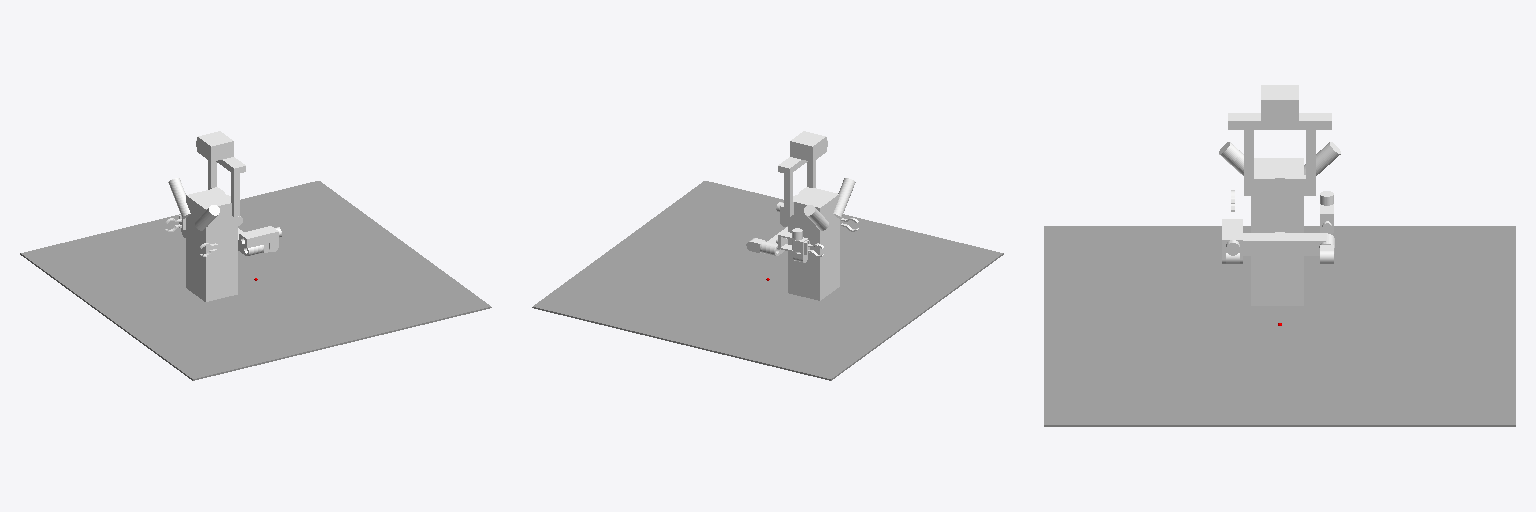
The robot description file, URDF, robot "gantry_engineer":
<?xml version="1.0"?>
<robot name="gantry_engineer">
  <link name="world" />
  <link name="eef_right_center" />
  <link name="eef_left_center" />
  <link name="floor">
    <visual>
      <origin xyz="0 0 0" rpy="0 0 0" />
      <geometry>
        <box size="2 2 0.01" />
      </geometry>
      <material name="grey">
        <color rgba="0.7 0.7 0.7 1.0" />
      </material>
    </visual>

    <collision>
      <origin xyz="0 0 0" rpy="0 0 0" />
      <geometry>
        <box size="2 2 0.01" />
      </geometry>
    </collision>
  </link>

  <joint name="world_to_floor" type="fixed">
    <parent link="world" />
    <child link="floor" />
    <origin xyz="0 0 -0.006" rpy="0 0 0" />
  </joint>

  <!-- IPM (Imaginary Point Marker) - 参考点 -->
  <link name="ipm">
    <visual>
      <origin xyz="0 0 0" rpy="0 0 0" />
      <geometry>
        <sphere radius="0.01" />
      </geometry>
      <material name="marker-material">
        <color rgba="1 0 0 1" />
      </material>
    </visual>
    <inertial>
      <origin xyz="0 0 0" rpy="0 0 0" />
      <mass value="0.01" />
      <inertia ixx="0.0001" ixy="0" ixz="0" iyy="0.0001" iyz="0" izz="0.0001" />
    </inertial>
  </link>

  <joint name="world_to_ipm" type="fixed">
    <parent link="world" />
    <child link="ipm" />
    <origin xyz="0.0 0.0 0.0" rpy="0 0 3.141593" />
  </joint>

  <link name="x_rail">
    <inertial>
      <mass value="5.0"/>
      <inertia ixx="0.1" ixy="0.0" ixz="0.0" iyy="0.1" iyz="0.0" izz="0.1"/>
    </inertial>
  </link>

  <joint name="x_rail_joint" type="prismatic">
    <parent link="world"/>
    <child link="x_rail"/>
    <origin xyz="-0.20000 0.000000 0.000000" rpy="0.000000 0.000000 3.141593"/>
    <axis xyz="1.000000 0.000000 0.000000"/>
    <limit lower="-0.400000" upper="0.200000" effort="1000.000000" velocity="0.500000"/>
  </joint>

  <joint name="x_rail_to_link1" type="fixed">
    <parent link="x_rail"/>
    <child link="link1"/>
    <origin xyz="0.100000 0.000000 0.0000000" rpy="0.000000 0.000000 0.000000"/>
  </joint>
  
  <link name="link1">
    <visual>
      <origin xyz="0.000000 0.000000 0.000000" rpy="0.000000 0.000000 0.000000"/>
      <geometry>
        <mesh filename="package://model/meshes/link1.STL"/>
      </geometry>
      <material name="link1_mat">
        <color rgba="1.000 1.000 1.000 1.000"/>
      </material>
    </visual>
    <collision>
      <origin xyz="0.000000 0.000000 0.000000" rpy="0.000000 0.000000 0.000000"/>
      <geometry>
        <mesh filename="package://model/meshes/link1.STL"/>
      </geometry>
    </collision>
  </link>

  <joint name="joint_link1_link2" type="prismatic">
    <parent link="link1"/>
    <child link="link2"/>
    <origin xyz="-0.107000 0.000000 0.310000" rpy="0.000000 -0.000000 0.000000"/>
    <axis xyz="0.000000 0.000000 1.000000"/>
    <limit lower="0.0" upper="0.410" effort="0.000000" velocity="0.000000"/>
  </joint>

  <link name="link2">
    <visual>
      <origin xyz="0.000000 0.000000 0.000000" rpy="0.000000 0.000000 0.000000"/>
      <geometry>
        <mesh filename="package://model/meshes/link2.STL"/>
      </geometry>
      <material name="link2_mat">
        <color rgba="1.000 1.000 1.000 1.000"/>
      </material>
    </visual>
    <collision>
      <origin xyz="0.000000 0.000000 0.000000" rpy="0.000000 0.000000 0.000000"/>
      <geometry>
        <mesh filename="package://model/meshes/link2.STL"/>
      </geometry>
    </collision>
  </link>

  <joint name="joint_link2_link3_1" type="revolute">
    <parent link="link2"/>
    <child link="link3_1"/>
    <origin xyz="-0.053000 0.200000 0.000000" rpy="0.000000 -0.000000 0.000000"/>
    <axis xyz="1.000000 0.000000 0.000000"/>
    <limit lower="-3.141593" upper="3.141593" effort="0.000000" velocity="0.000000"/>
  </joint>
  <link name="link3_1">
    <visual>
      <origin xyz="0.000000 0.000000 0.000000" rpy="0.000000 0.000000 0.000000"/>
      <geometry>
        <mesh filename="package://model/meshes/link3_1.STL"/>
      </geometry>
      <material name="link3_1_mat">
        <color rgba="1.000 1.000 1.000 1.000"/>
      </material>
    </visual>
    <collision>
      <origin xyz="0.000000 0.000000 0.000000" rpy="0.000000 0.000000 0.000000"/>
      <geometry>
        <mesh filename="package://model/meshes/link3_1.STL"/>
      </geometry>
    </collision>
  </link>

  <joint name="joint_link3_1_link4_1" type="revolute">
    <parent link="link3_1"/>
    <child link="link4_1"/>
    <origin xyz="-0.122000 0.000000 0.003000" rpy="0.000000 -0.000000 0.000000"/>
    <axis xyz="0.000000 1.000000 0.000000"/>
    <limit lower="-3.141593" upper="3.141593" effort="0.000000" velocity="0.000000"/>
  </joint>
  <link name="link4_1">
    <visual>
      <origin xyz="0.000000 0.000000 0.000000" rpy="0.000000 0.000000 0.000000"/>
      <geometry>
        <mesh filename="package://model/meshes/link4_1.STL"/>
      </geometry>
      <material name="link4_1_mat">
        <color rgba="1.000 1.000 1.000 1.000"/>
      </material>
    </visual>
    <collision>
      <origin xyz="0.000000 0.000000 0.000000" rpy="0.000000 0.000000 0.000000"/>
      <geometry>
        <mesh filename="package://model/meshes/link4_1.STL"/>
      </geometry>
    </collision>
  </link>

  <joint name="joint_link4_1_link5_1" type="revolute">
    <parent link="link4_1"/>
    <child link="link5_1"/>
    <origin xyz="0.164000 0.000000 0.063000" rpy="-3.141593 -1.570796 0.000000"/>
    <axis xyz="1.000000 0.000000 0.000000"/>
    <limit lower="-3.141593" upper="3.141593" effort="0.000000" velocity="0.000000"/>
  </joint>
  <link name="link5_1">
    <visual>
      <origin xyz="0.000000 0.000000 0.000000" rpy="0.000000 0.000000 0.000000"/>
      <geometry>
        <mesh filename="package://model/meshes/link5_1.STL"/>
      </geometry>
      <material name="link5_1_mat">
        <color rgba="1.000 1.000 1.000 1.000"/>
      </material>
    </visual>
    <collision>
      <origin xyz="0.000000 0.000000 0.000000" rpy="0.000000 0.000000 0.000000"/>
      <geometry>
        <mesh filename="package://model/meshes/link5_1.STL"/>
      </geometry>
    </collision>
  </link>

  <joint name="joint_link5_1_link6_1" type="revolute">
    <parent link="link5_1"/>
    <child link="link6_1"/>
    <origin xyz="0.010000 0.000000 0.130000" rpy="3.141593 0.000000 1.570796"/>
    <axis xyz="0.000000 1.000000 0.000000"/>
    <limit lower="-3.141593" upper="3.141593" effort="0.000000" velocity="0.000000"/>
  </joint>
  <link name="link6_1">
    <visual>
      <origin xyz="0.000000 0.000000 0.000000" rpy="0.000000 0.000000 0.000000"/>
      <geometry>
        <mesh filename="package://model/meshes/link6_1.STL"/>
      </geometry>
      <material name="link6_1_mat">
        <color rgba="1.000 1.000 1.000 1.000"/>
      </material>
    </visual>
    <collision>
      <origin xyz="0.000000 0.000000 0.000000" rpy="0.000000 0.000000 0.000000"/>
      <geometry>
        <mesh filename="package://model/meshes/link6_1.STL"/>
      </geometry>
    </collision>
  </link>

  <joint name="joint_link6_1_link7_1" type="revolute">
    <parent link="link6_1"/>
    <child link="link7_1"/>
    <origin xyz="0.000000 -0.009250 -0.035000" rpy="3.141593 0.000000 3.141593"/>
    <axis xyz="0.000000 0.000000 1.000000"/>
    <limit lower="-3.141593" upper="3.141593" effort="0.000000" velocity="0.000000"/>
  </joint>
  <link name="link7_1">
    <visual>
      <origin xyz="0.000000 0.000000 0.000000" rpy="0.000000 0.000000 0.000000"/>
      <geometry>
        <mesh filename="package://model/meshes/link7_1.STL"/>
      </geometry>
      <material name="link7_1_mat">
        <color rgba="1.000 1.000 1.000 1.000"/>
      </material>
    </visual>
    <collision>
      <origin xyz="0.000000 0.000000 0.000000" rpy="0.000000 0.000000 0.000000"/>
      <geometry>
        <mesh filename="package://model/meshes/link7_1.STL"/>
      </geometry>
    </collision>
  </link>

  <joint name="joint_link7_1_eef_right_center" type="fixed">
    <parent link="link7_1"/>
    <child link="eef_right_center"/>
    <origin xyz="0.000000 0.000000 0.105000" rpy="0.000000 -0.000000 3.141593"/>
  </joint>

  <joint name="joint_link7_1_link8_1_1" type="prismatic">
    <parent link="link7_1"/>
    <child link="link8_1_1"/>
    <origin xyz="0.000000 0.017000 0.030000" rpy="0.000000 -0.000000 3.141593"/>
    <axis xyz="0.000000 1.000000 0.000000"/>
    <limit lower="-0.020" upper="0.0" effort="0.000000" velocity="0.000000"/>
  </joint>
  <link name="link8_1_1">
    <visual>
      <origin xyz="0.000000 0.000000 0.000000" rpy="0.000000 0.000000 0.000000"/>
      <geometry>
        <mesh filename="package://model/meshes/link8_1_1.STL"/>
      </geometry>
      <material name="link8_1_1_mat">
        <color rgba="1.000 1.000 1.000 1.000"/>
      </material>
    </visual>
    <collision>
      <origin xyz="0.000000 0.000000 0.000000" rpy="0.000000 0.000000 0.000000"/>
      <geometry>
        <mesh filename="package://model/meshes/link8_1_1.STL"/>
      </geometry>
    </collision>
  </link>

  <joint name="joint_link7_1_link8_1_2" type="prismatic">
    <parent link="link7_1"/>
    <child link="link8_1_2"/>
    <origin xyz="0.000000 -0.017000 0.030000" rpy="0.000000 -0.000000 3.141593"/>
    <axis xyz="0.000000 1.000000 0.000000"/>
    <limit lower="0.0" upper="0.020" effort="0.000000" velocity="0.000000"/>
    <mimic joint="joint_link7_1_link8_1_1" multiplier="-1.0" offset="0.0"/>
  </joint>
  <link name="link8_1_2">
    <visual>
      <origin xyz="0.000000 0.000000 0.000000" rpy="0.000000 0.000000 0.000000"/>
      <geometry>
        <mesh filename="package://model/meshes/link8_1_2.STL"/>
      </geometry>
      <material name="link8_1_2_mat">
        <color rgba="1.000 1.000 1.000 1.000"/>
      </material>
    </visual>
    <collision>
      <origin xyz="0.000000 0.000000 0.000000" rpy="0.000000 0.000000 0.000000"/>
      <geometry>
        <mesh filename="package://model/meshes/link8_1_2.STL"/>
      </geometry>
    </collision>
  </link>

  <joint name="joint_link2_link3_2" type="revolute">
    <parent link="link2"/>
    <child link="link3_2"/>
    <origin xyz="-0.053000 -0.200000 0.000000" rpy="0.000000 -0.000000 0.000000"/>
    <axis xyz="1.000000 0.000000 0.000000"/>
    <limit lower="-3.141593" upper="3.141593" effort="0.000000" velocity="0.000000"/>
  </joint>
  <link name="link3_2">
    <visual>
      <origin xyz="0.000000 0.000000 0.000000" rpy="0.000000 0.000000 0.000000"/>
      <geometry>
        <mesh filename="package://model/meshes/link3_2.STL"/>
      </geometry>
      <material name="link3_2_mat">
        <color rgba="1.000 1.000 1.000 1.000"/>
      </material>
    </visual>
    <collision>
      <origin xyz="0.000000 0.000000 0.000000" rpy="0.000000 0.000000 0.000000"/>
      <geometry>
        <mesh filename="package://model/meshes/link3_2.STL"/>
      </geometry>
    </collision>
  </link>

  <joint name="joint_link3_2_link4_2" type="revolute">
    <parent link="link3_2"/>
    <child link="link4_2"/>
    <origin xyz="-0.122000 0.000000 0.003000" rpy="0.000000 -0.000000 0.000000"/>
    <axis xyz="0.000000 1.000000 0.000000"/>
    <limit lower="-3.141593" upper="3.141593" effort="0.000000" velocity="0.000000"/>
  </joint>
  <link name="link4_2">
    <visual>
      <origin xyz="0.000000 0.000000 0.000000" rpy="0.000000 0.000000 0.000000"/>
      <geometry>
        <mesh filename="package://model/meshes/link4_2.STL"/>
      </geometry>
      <material name="link4_2_mat">
        <color rgba="1.000 1.000 1.000 1.000"/>
      </material>
    </visual>
    <collision>
      <origin xyz="0.000000 0.000000 0.000000" rpy="0.000000 0.000000 0.000000"/>
      <geometry>
        <mesh filename="package://model/meshes/link4_2.STL"/>
      </geometry>
    </collision>
  </link>

  <joint name="joint_link4_2_link5_2" type="revolute">
    <parent link="link4_2"/>
    <child link="link5_2"/>
    <origin xyz="0.164000 0.000000 0.060000" rpy="-3.141593 -1.570796 0.000000"/>
    <axis xyz="1.000000 0.000000 0.000000"/>
    <limit lower="-3.141593" upper="3.141593" effort="0.000000" velocity="0.000000"/>
  </joint>
  <link name="link5_2">
    <visual>
      <origin xyz="0.000000 0.000000 0.000000" rpy="0.000000 0.000000 0.000000"/>
      <geometry>
        <mesh filename="package://model/meshes/link5_2.STL"/>
      </geometry>
      <material name="link5_2_mat">
        <color rgba="1.000 1.000 1.000 1.000"/>
      </material>
    </visual>
    <collision>
      <origin xyz="0.000000 0.000000 0.000000" rpy="0.000000 0.000000 0.000000"/>
      <geometry>
        <mesh filename="package://model/meshes/link5_2.STL"/>
      </geometry>
    </collision>
  </link>

  <joint name="joint_link5_2_link6_2" type="revolute">
    <parent link="link5_2"/>
    <child link="link6_2"/>
    <origin xyz="0.010000 0.000000 0.130000" rpy="3.141593 0.000000 1.570796"/>
    <axis xyz="0.000000 1.000000 0.000000"/>
    <limit lower="-3.141593" upper="3.141593" effort="0.000000" velocity="0.000000"/>
  </joint>
  <link name="link6_2">
    <visual>
      <origin xyz="0.000000 0.000000 0.000000" rpy="0.000000 0.000000 0.000000"/>
      <geometry>
        <mesh filename="package://model/meshes/link6_2.STL"/>
      </geometry>
      <material name="link6_2_mat">
        <color rgba="1.000 1.000 1.000 1.000"/>
      </material>
    </visual>
    <collision>
      <origin xyz="0.000000 0.000000 0.000000" rpy="0.000000 0.000000 0.000000"/>
      <geometry>
        <mesh filename="package://model/meshes/link6_2.STL"/>
      </geometry>
    </collision>
  </link>

  <joint name="joint_link6_2_link7_2" type="revolute">
    <parent link="link6_2"/>
    <child link="link7_2"/>
    <origin xyz="0.000000 -0.009250 -0.035000" rpy="3.141593 0.000000 3.141593"/>
    <axis xyz="0.000000 0.000000 1.000000"/>
    <limit lower="-3.141593" upper="3.141593" effort="0.000000" velocity="0.000000"/>
  </joint>
  <link name="link7_2">
    <visual>
      <origin xyz="0.000000 0.000000 0.000000" rpy="0.000000 0.000000 0.000000"/>
      <geometry>
        <mesh filename="package://model/meshes/link7_2.STL"/>
      </geometry>
      <material name="link7_2_mat">
        <color rgba="1.000 1.000 1.000 1.000"/>
      </material>
    </visual>
    <collision>
      <origin xyz="0.000000 0.000000 0.000000" rpy="0.000000 0.000000 0.000000"/>
      <geometry>
        <mesh filename="package://model/meshes/link7_2.STL"/>
      </geometry>
    </collision>
  </link>

  <joint name="joint_link7_2_eef_left_center" type="fixed">
    <parent link="link7_2"/>
    <child link="eef_left_center"/>
    <origin xyz="0.000000 0.000000 0.105000" rpy="0.000000 -0.000000 3.141593"/>
  </joint>

  <joint name="joint_link7_2_link8_2_1" type="prismatic">
    <parent link="link7_2"/>
    <child link="link8_2_1"/>
    <origin xyz="0.000000 0.017000 0.030000" rpy="0.000000 -0.000000 3.141593"/>
    <axis xyz="0.000000 1.000000 0.000000"/>
    <limit lower="-0.020" upper="0.0" effort="0.000000" velocity="0.000000"/>
  </joint>
  <link name="link8_2_1">
    <visual>
      <origin xyz="0.000000 0.000000 0.000000" rpy="0.000000 0.000000 0.000000"/>
      <geometry>
        <mesh filename="package://model/meshes/link8_2_1.STL"/>
      </geometry>
      <material name="link8_2_1_mat">
        <color rgba="1.000 1.000 1.000 1.000"/>
      </material>
    </visual>
    <collision>
      <origin xyz="0.000000 0.000000 0.000000" rpy="0.000000 0.000000 0.000000"/>
      <geometry>
        <mesh filename="package://model/meshes/link8_2_1.STL"/>
      </geometry>
    </collision>
  </link>

  <joint name="joint_link7_2_link8_2_2" type="prismatic">
    <parent link="link7_2"/>
    <child link="link8_2_2"/>
    <origin xyz="0.000000 -0.017000 0.030000" rpy="0.000000 -0.000000 3.141593"/>
    <axis xyz="0.000000 1.000000 0.000000"/>
    <limit lower="0.0" upper="0.020" effort="0.000000" velocity="0.000000"/>
    <mimic joint="joint_link7_2_link8_2_1" multiplier="-1.0" offset="0.0"/>
  </joint>
  <link name="link8_2_2">
    <visual>
      <origin xyz="0.000000 0.000000 0.000000" rpy="0.000000 0.000000 0.000000"/>
      <geometry>
        <mesh filename="package://model/meshes/link8_2_2.STL"/>
      </geometry>
      <material name="link8_2_2_mat">
        <color rgba="1.000 1.000 1.000 1.000"/>
      </material>
    </visual>
    <collision>
      <origin xyz="0.000000 0.000000 0.000000" rpy="0.000000 0.000000 0.000000"/>
      <geometry>
        <mesh filename="package://model/meshes/link8_2_2.STL"/>
      </geometry>
    </collision>
  </link>
</robot>

--- What the picture shows (computed from the rendered views, not written in the file) ---
Views: 3 orthographic renders of the robot side by side, from view 1: azimuth 30°, elevation 25°; view 2: azimuth 150°, elevation 25°; view 3: azimuth 270°, elevation 25°.
Robot: gantry_engineer — 22 links, 21 joints (10 revolute, 6 prismatic, 5 fixed); root link world; default pose: all joints at 0.
Visible links, largest first — view 1: floor, link1, link4_1; view 2: floor, link1; view 3: floor, link1, link2, link4_1, link5_2.
Boxes of the visible links, x1,y1,x2,y2 form: floor: [20, 181, 491, 380]; link1: [168, 131, 245, 301]; link4_1: [239, 226, 281, 251]; floor: [532, 181, 1003, 380]; link1: [778, 131, 855, 300]; floor: [1044, 226, 1515, 426]; link1: [1219, 85, 1340, 305]; link2: [1243, 232, 1334, 255]; link4_1: [1222, 219, 1242, 263]; link5_2: [1320, 191, 1333, 232].
Size in the robot's own frame: 2 by 2 by 0.976 metres.
12 mesh visuals loaded from 16 distinct referenced files (12 binary STL); not drawn: 4 (reference not matched to a file when rendering).
